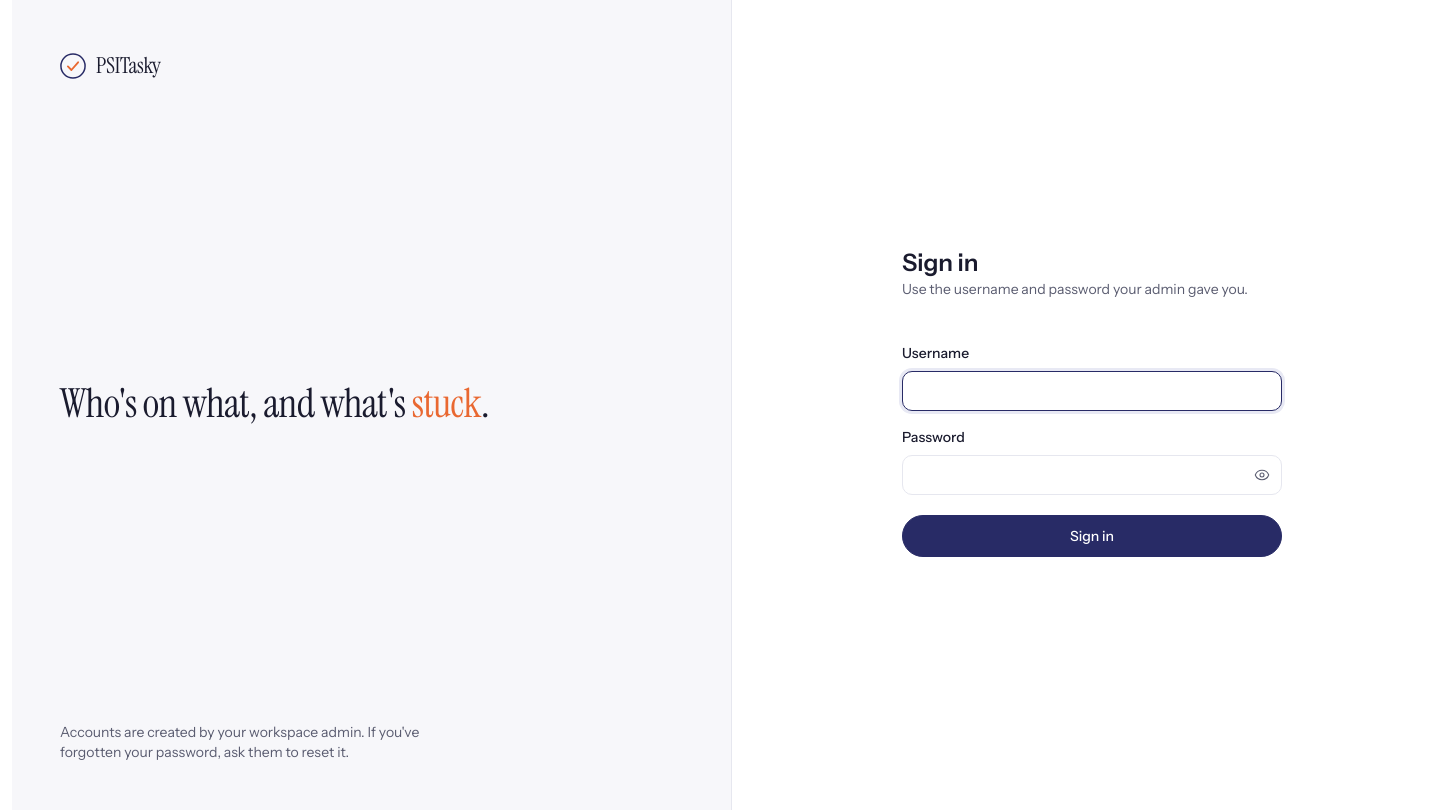
Test: Login › shows the server error for wrong credentials
The image size is (1452, 810).
Type "sara.haddad" into the field labelled "Username".
click(1092, 391); type("sara.haddad")  # box 902,371 -> 1282,411
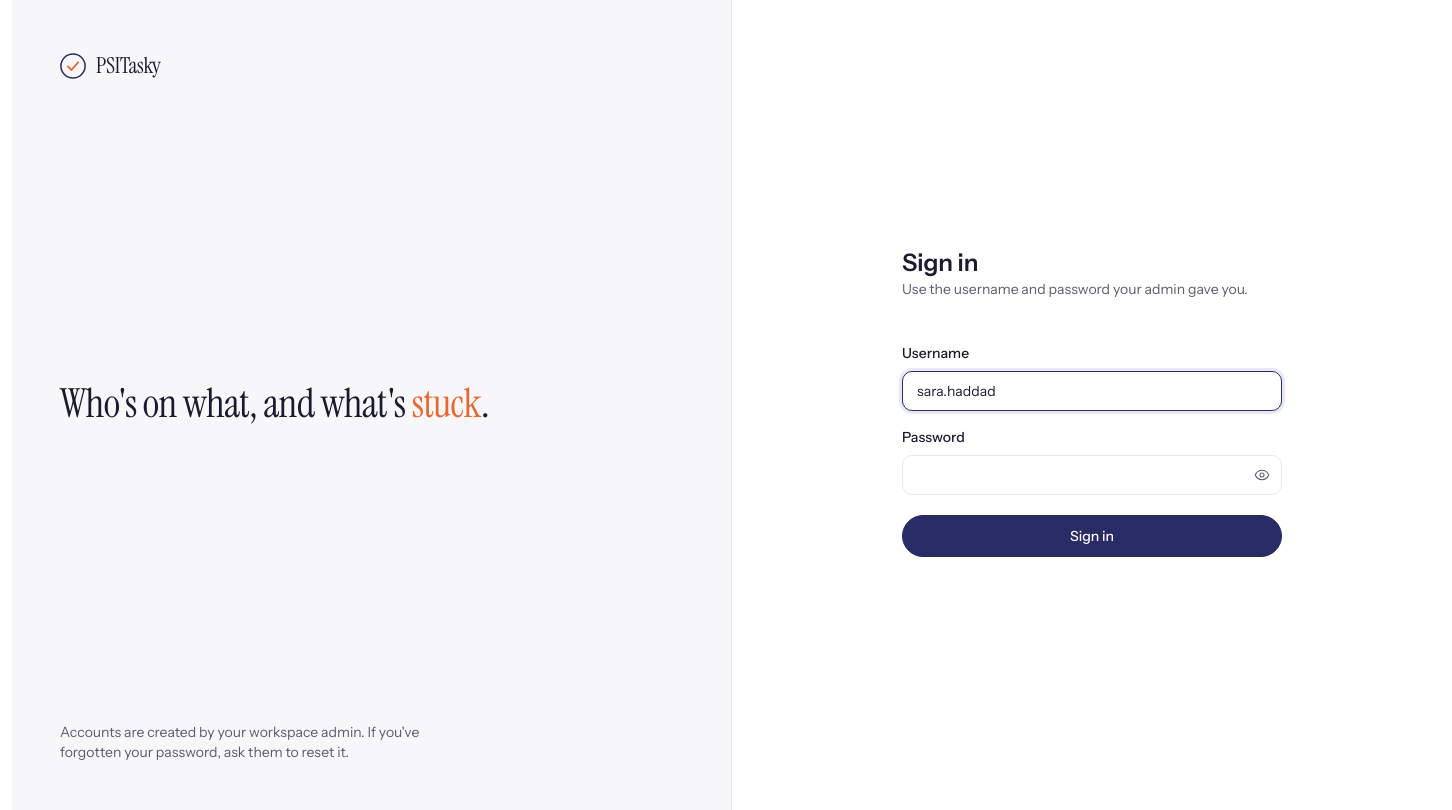
Type "wrong-password" into the password field labelled "Password".
click(1092, 475); type("wrong-password")  # box 902,455 -> 1282,495
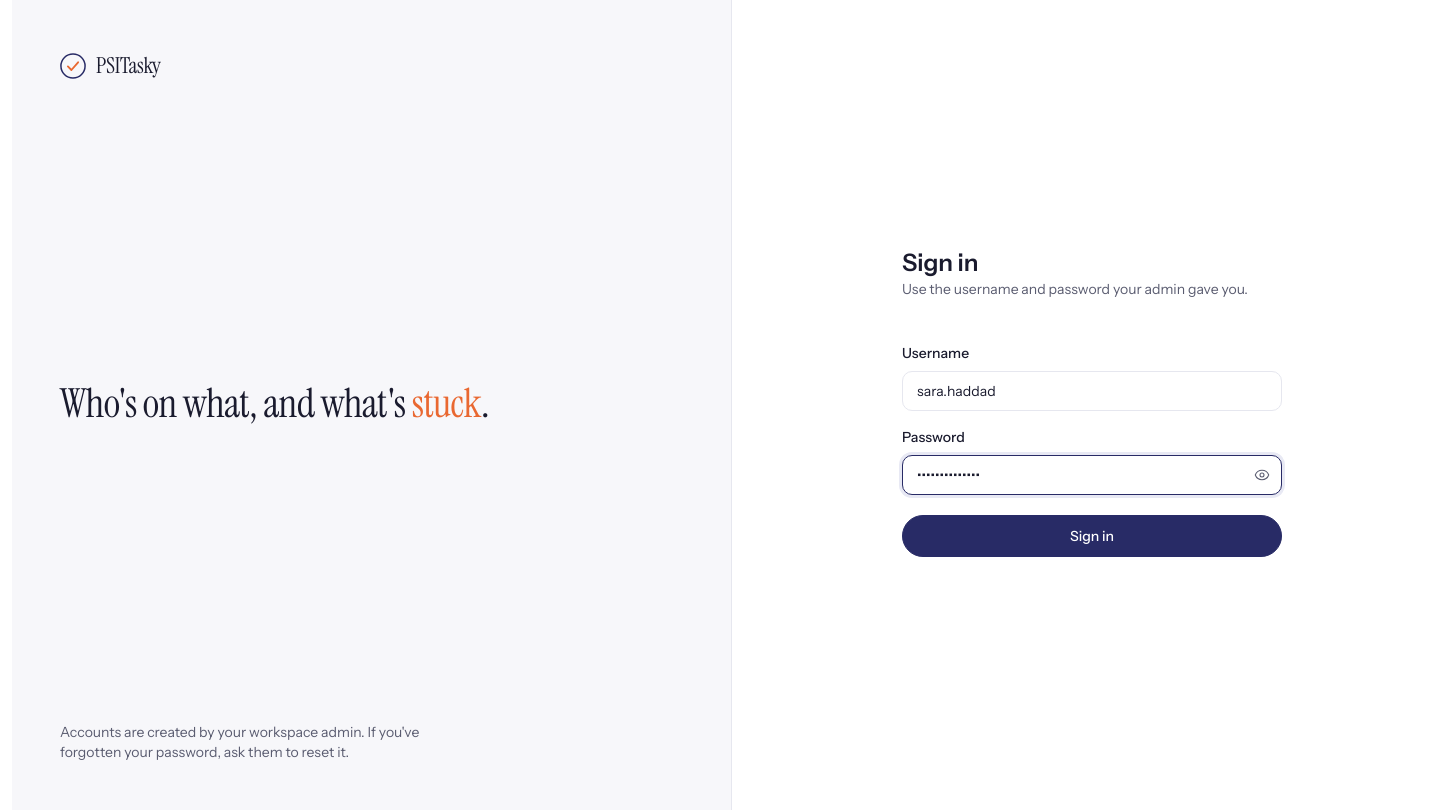
Click the button "Sign in".
click(1092, 536)  # box 902,515 -> 1282,557
(page scrolled)
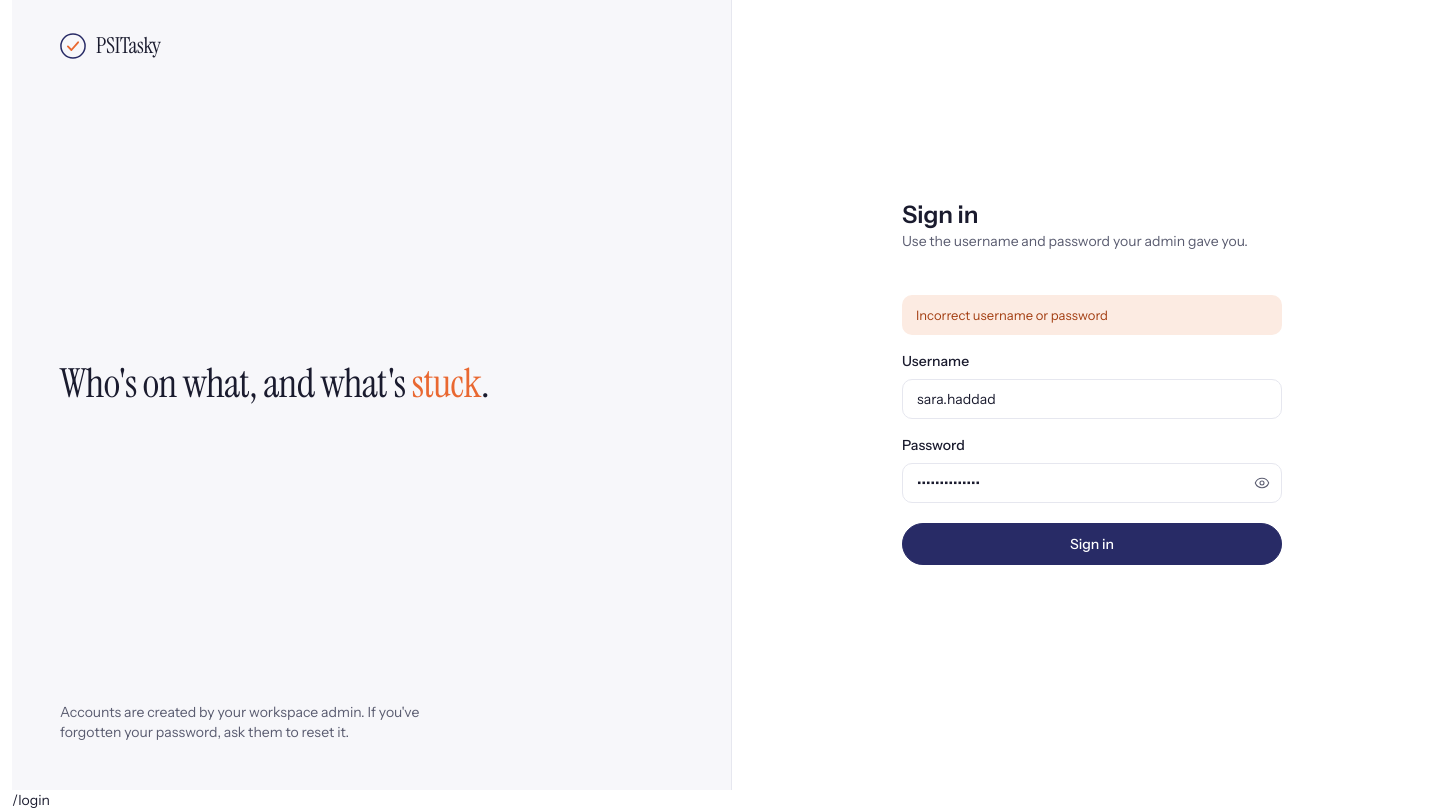
Check: the text with test id "location" reads "/login", box 12,791 -> 50,809
Check: the message reads "Incorrect username or password", box 916,307 -> 1108,323
